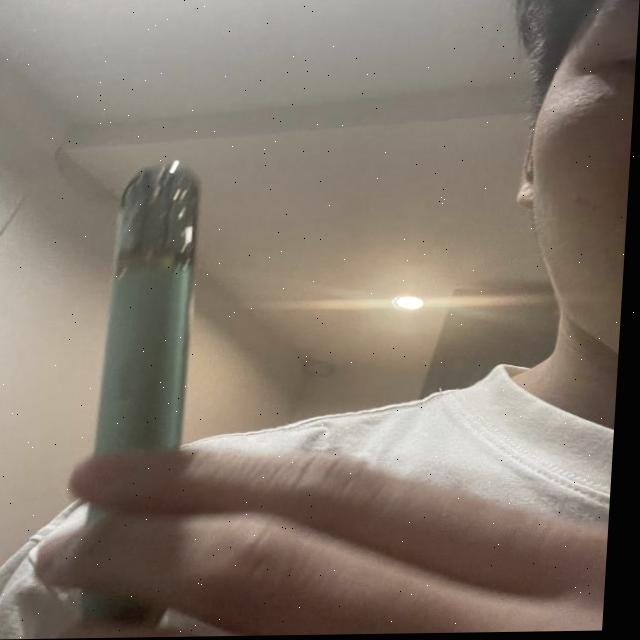vape: (97, 160, 206, 451)
